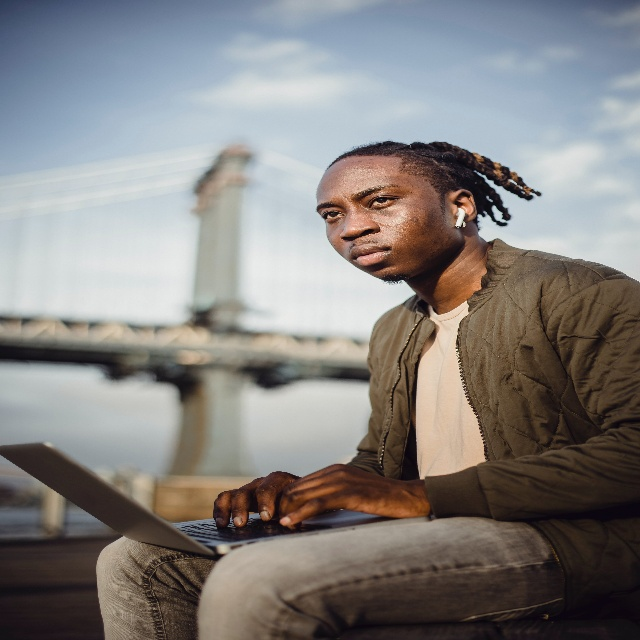Sin_guantes: (281, 466, 425, 524), (210, 470, 297, 534)
